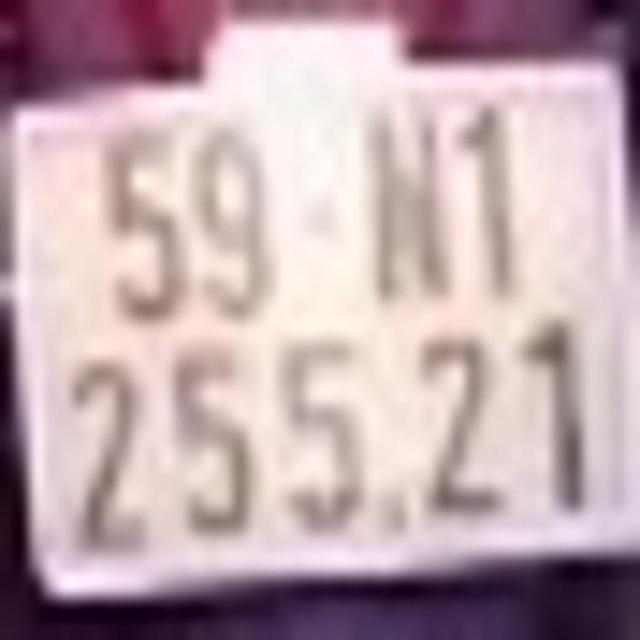1: (514, 314, 600, 512), (468, 98, 523, 305)
2: (56, 360, 160, 554), (410, 330, 505, 512)
5: (100, 124, 184, 324), (168, 350, 258, 535), (281, 342, 370, 528)
9: (192, 121, 284, 322)
N: (366, 103, 456, 300)
